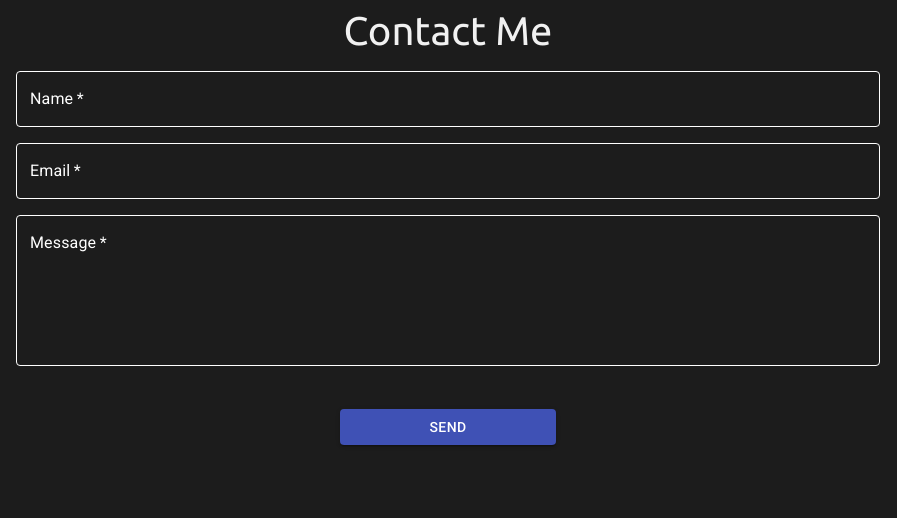
it: Contact From Tests › submit button text changes appropriately
This screenshot has width=897, height=518.
Click the button with test id "submit": (448, 427) [340,408,556,445]
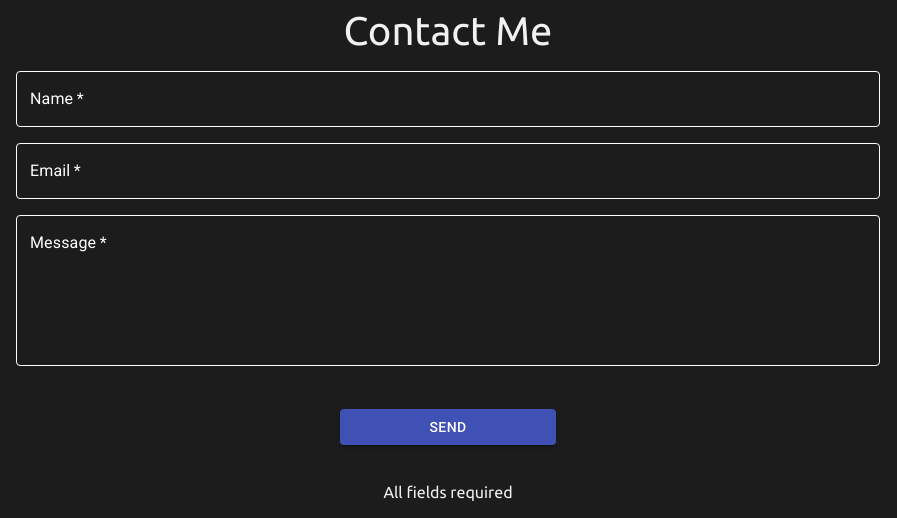
In the field with placeholder "Name": (448, 99) [16,71,880,127], type "Alex"
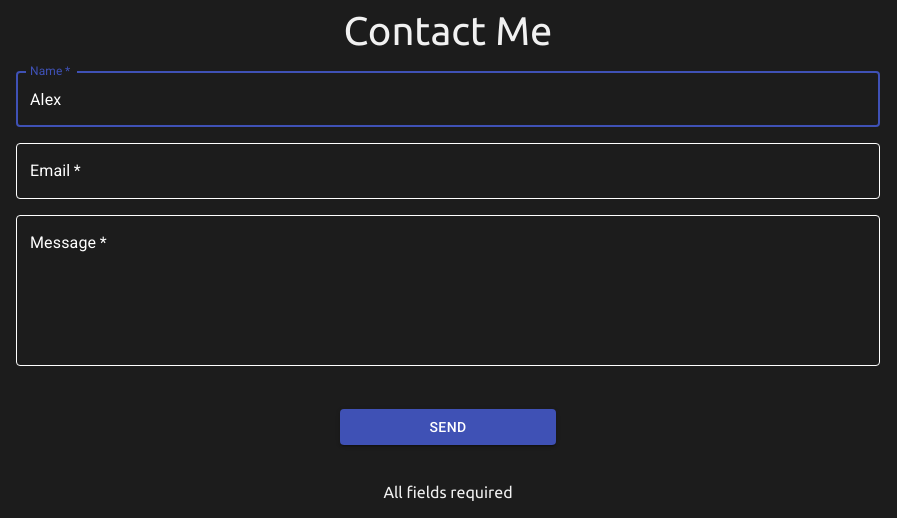
In the field with placeholder "Email": (448, 171) [16,143,880,199], type "alex@alex.com"
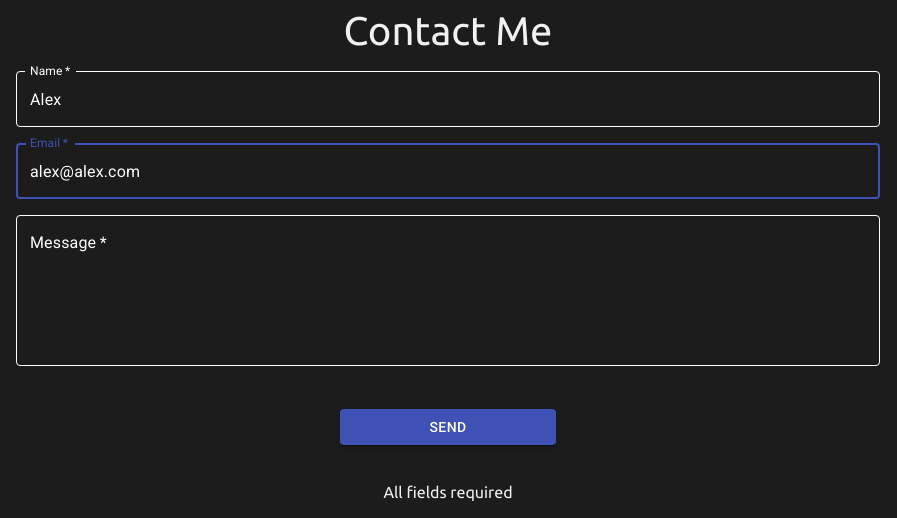
In the text box with placeholder "Message": (448, 290) [30,234,866,348], type "this is a message"
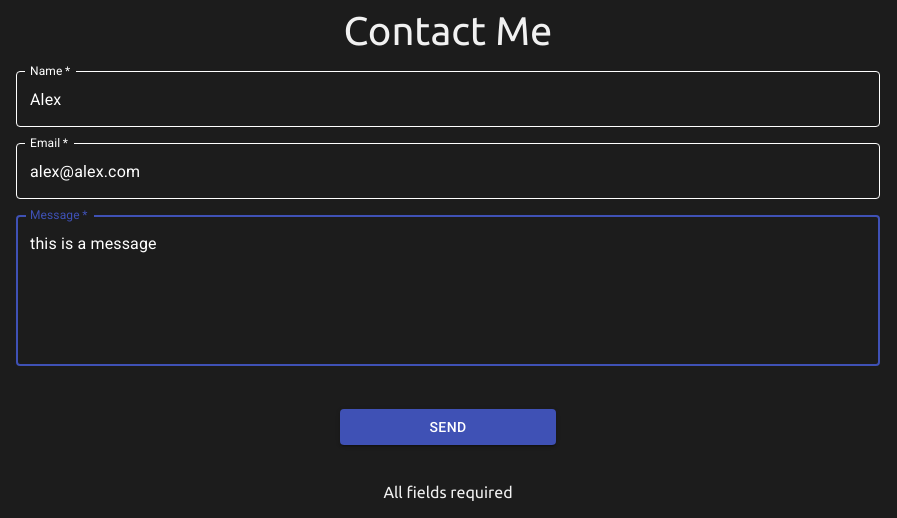
Click the button with test id "submit": (448, 427) [340,408,556,445]
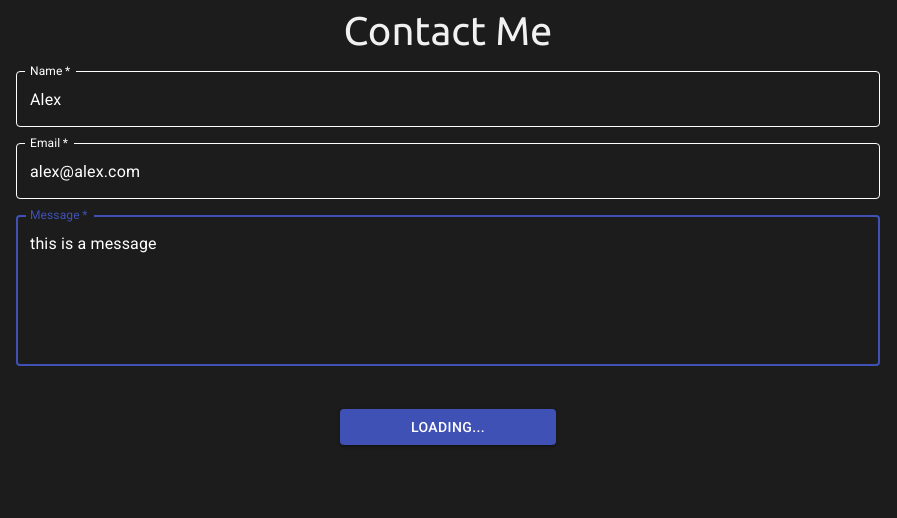
Now the button with test id "submit" reads "loading...", box [340,408,556,445]
